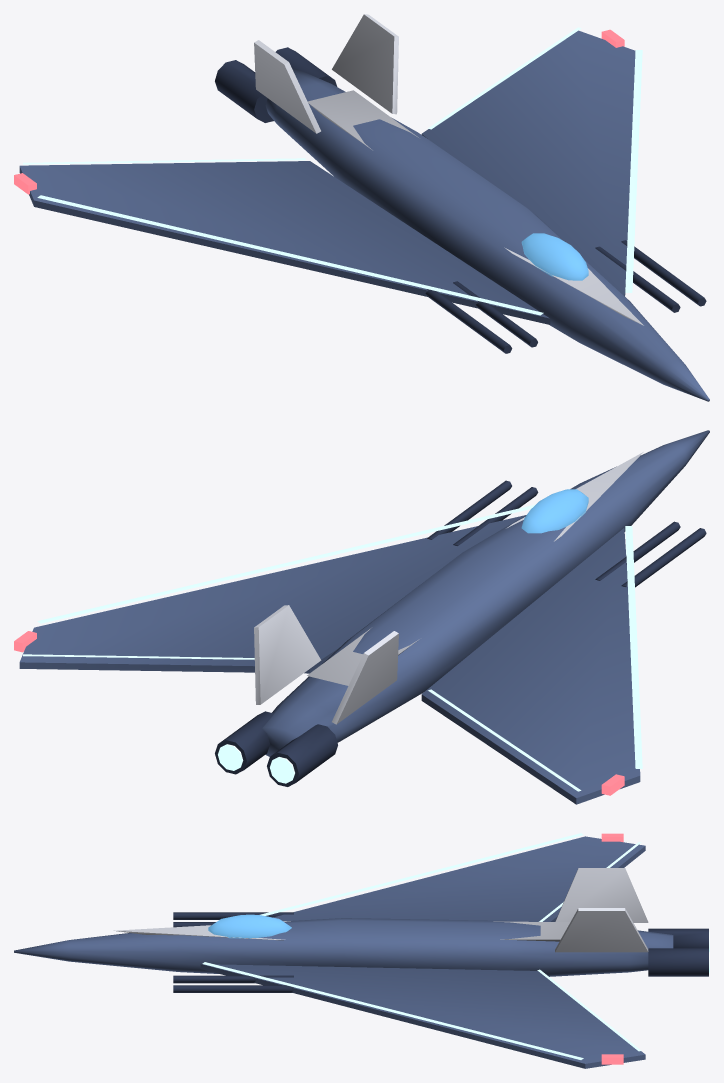
File: fighter.glb
3 renders of one model, top to bottom at view 1: azimuth 30°, elevation 25°; view 2: azimuth 150°, elevation 25°; view 3: azimuth 270°, elevation 25°, orthographic. The views are drawn at different scales.
Parts seen in each view (by area): view 1: fighter; view 2: fighter; view 3: fighter.
Boxes of the visible parts, left/top/right/bottom form: fighter: left=14, top=14, right=709, bottom=401; fighter: left=14, top=430, right=709, bottom=804; fighter: left=14, top=833, right=709, bottom=1068.
Size of the model in its own units: 9.8 by 1.66 by 12.67.
